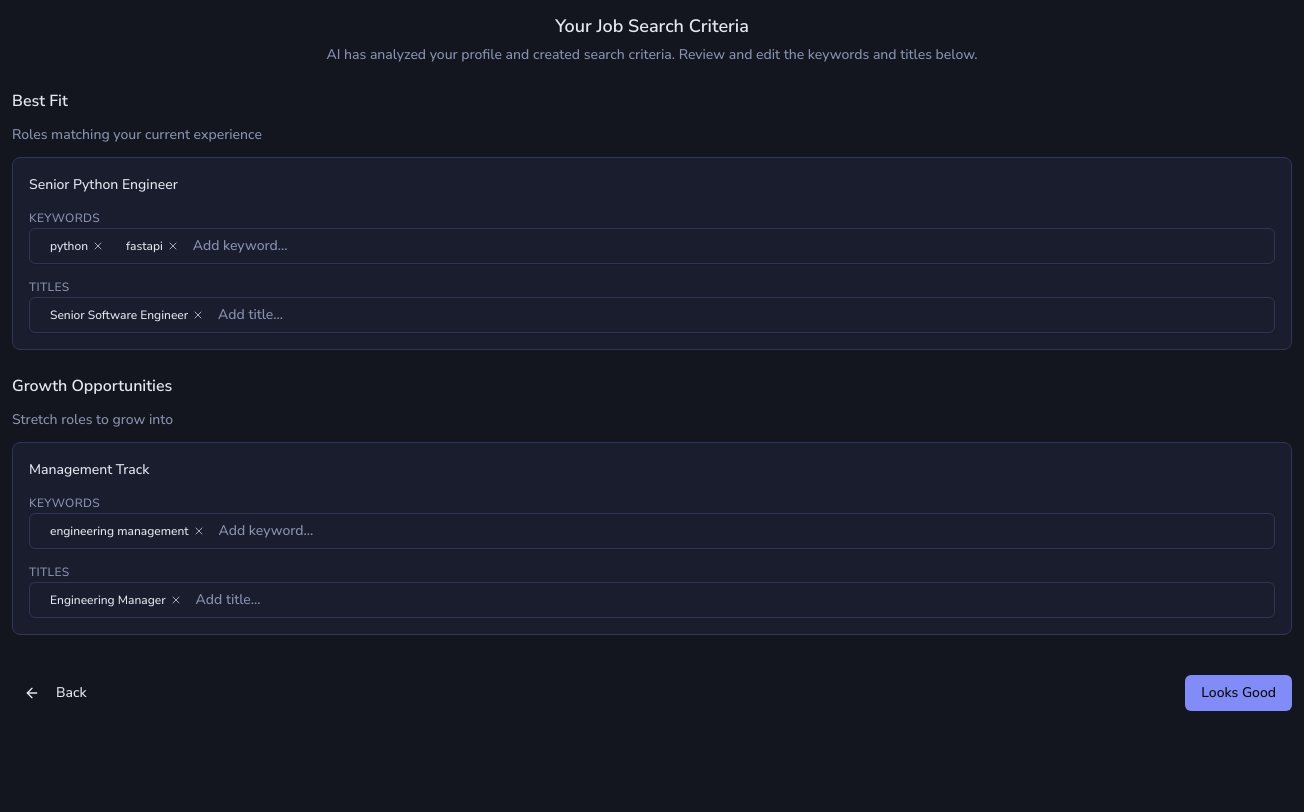
Test: SearchCriteriaStep › approve action › shows error when approval fails
The width and height of the screenshot is (1304, 812).
Click the button with test id "approve-button": (1239, 693) left=1185, top=675, right=1292, bottom=711
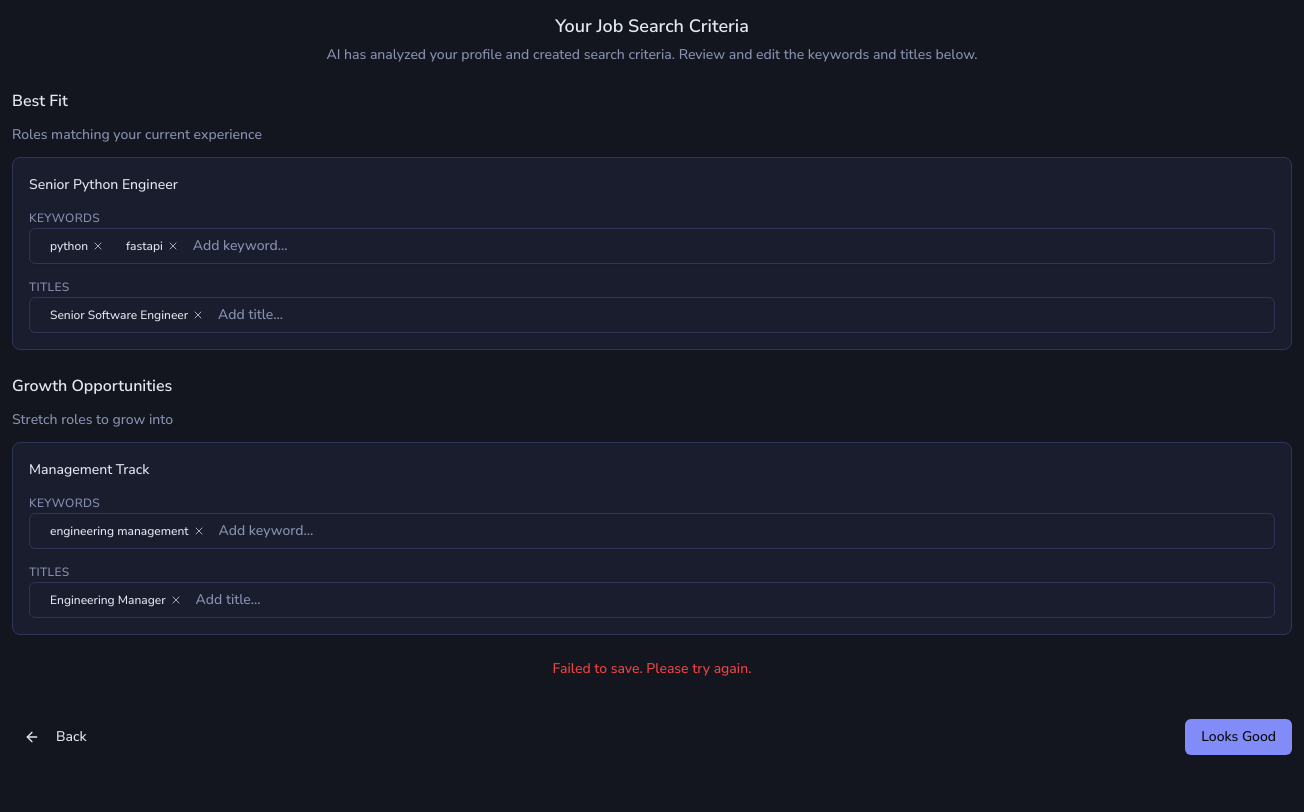
Now the text "Failed to save. Please try again." is shown, box left=553, top=659, right=752, bottom=678
